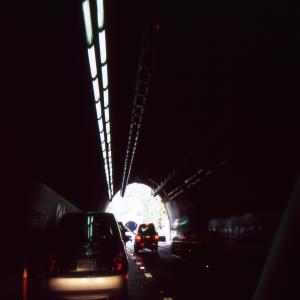Vehicle-registration-plate: (77, 259, 95, 274)
